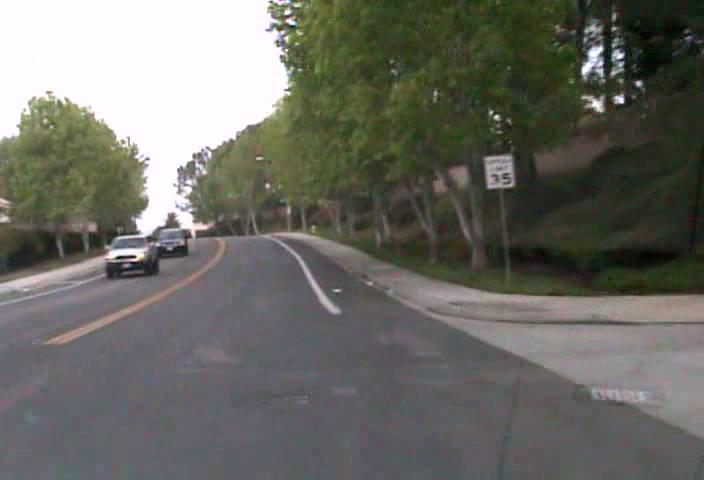speedLimit35: (483, 152, 516, 190)
